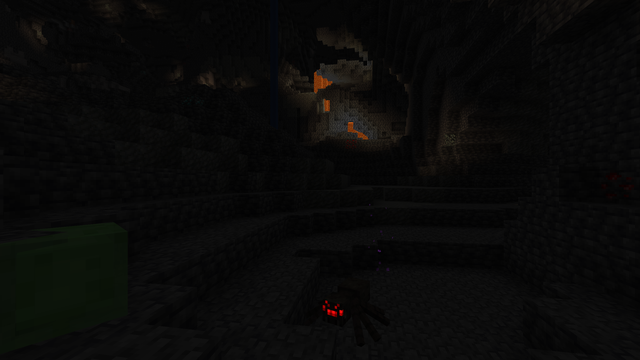araignees: (312, 275, 374, 343)
slimes: (3, 220, 141, 348)
